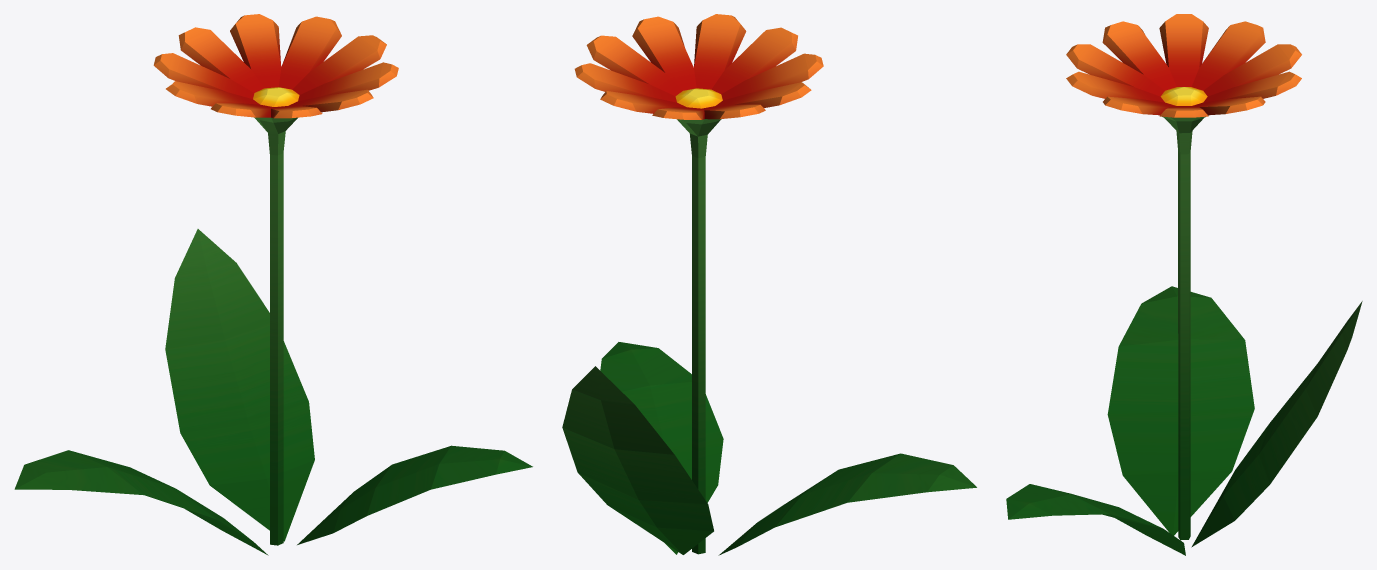
Rendered from Flower_Red_04.fbx.
The picture shows the model from 3 angles, left to right: view 1: azimuth 30°, elevation 25°; view 2: azimuth 150°, elevation 25°; view 3: azimuth 270°, elevation 25°; orthographic projection. The views are drawn at different scales.
Parts seen in each view (by area): view 1: Flower_Red_04; view 2: Flower_Red_04; view 3: Flower_Red_04.
Boxes of the visible parts, x1,y1,x2,y2 form: Flower_Red_04: (14,14,532,555); Flower_Red_04: (562,14,976,555); Flower_Red_04: (1006,14,1362,555).
Size of the model in its own units: 41.19 by 44.1 by 29.47.
